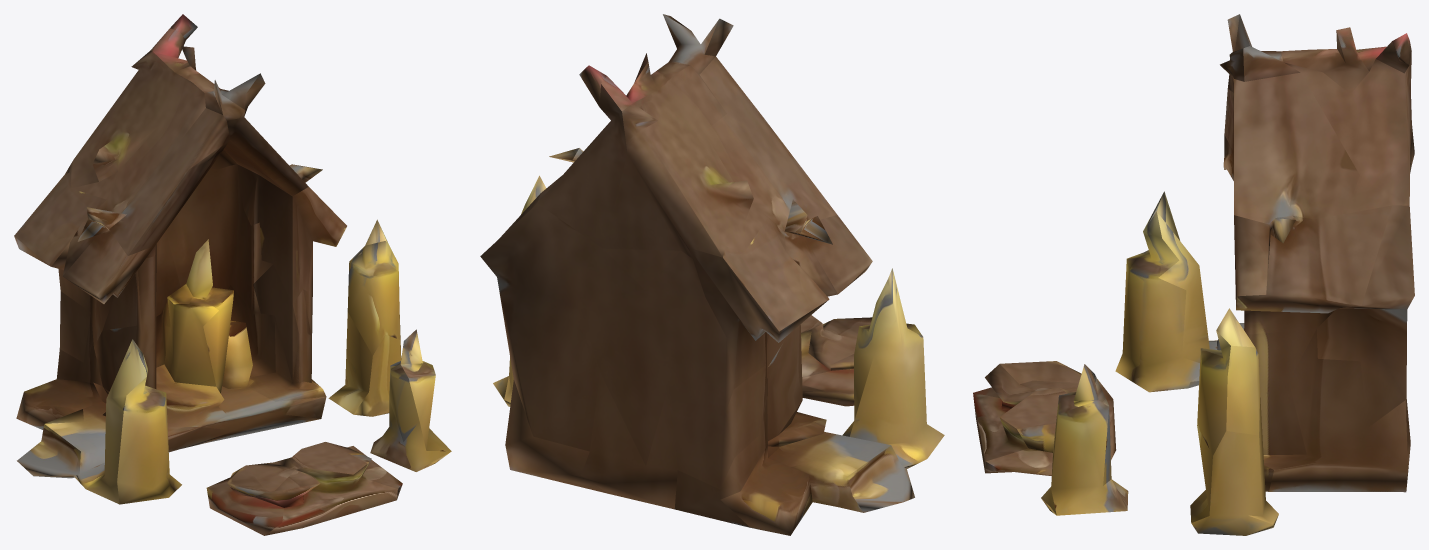
File: Shrine.glb
The picture shows the model from 3 angles, left to right: view 1: azimuth 30°, elevation 25°; view 2: azimuth 150°, elevation 25°; view 3: azimuth 270°, elevation 25°; orthographic projection. The views are drawn at different scales.
Visible parts, largest first — view 1: Shrine; view 2: Shrine; view 3: Shrine.
Part boxes in pixels (left/top/right/bottom): Shrine: left=14, top=14, right=451, bottom=535; Shrine: left=480, top=14, right=944, bottom=535; Shrine: left=973, top=14, right=1414, bottom=535.
Size of the model in its own units: 0.9918 by 0.9375 by 0.8851.
Materials: 1 (1 with a texture image).
